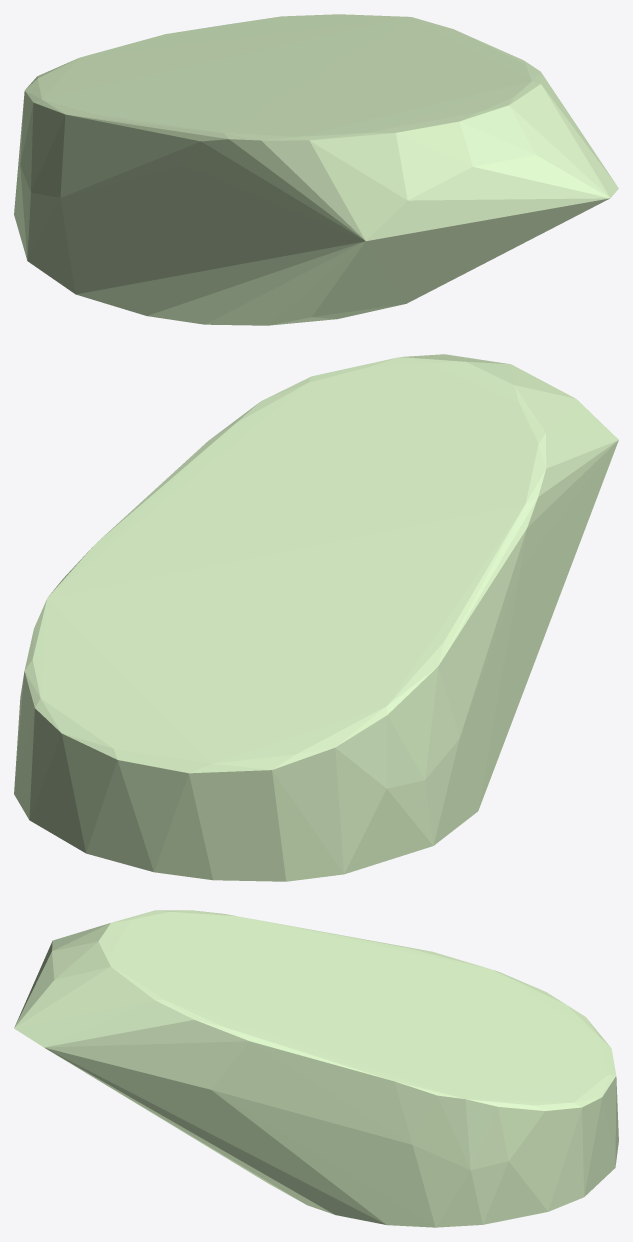
The model's file is kuka_link3_resp_coll_3.dae.
3 views of the same model, one above another, from view 1: azimuth 30°, elevation 25°; view 2: azimuth 150°, elevation 25°; view 3: azimuth 270°, elevation 25° (orthographic). The views are drawn at different scales.
Visible parts, largest first — view 1: Node_0000015C5C916960; view 2: Node_0000015C5C916960; view 3: Node_0000015C5C916960.
Boxes of the visible parts, x1,y1,x2,y2 form: Node_0000015C5C916960: [14, 14, 618, 325]; Node_0000015C5C916960: [14, 354, 618, 881]; Node_0000015C5C916960: [14, 910, 618, 1227].
Bounding box in the file's own units: 0.1357 × 0.0836 × 0.2214.
